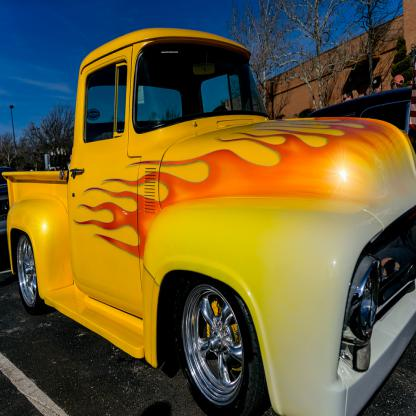Car: (1, 26, 416, 415), (0, 166, 18, 237)
Truck: (1, 27, 415, 415)
